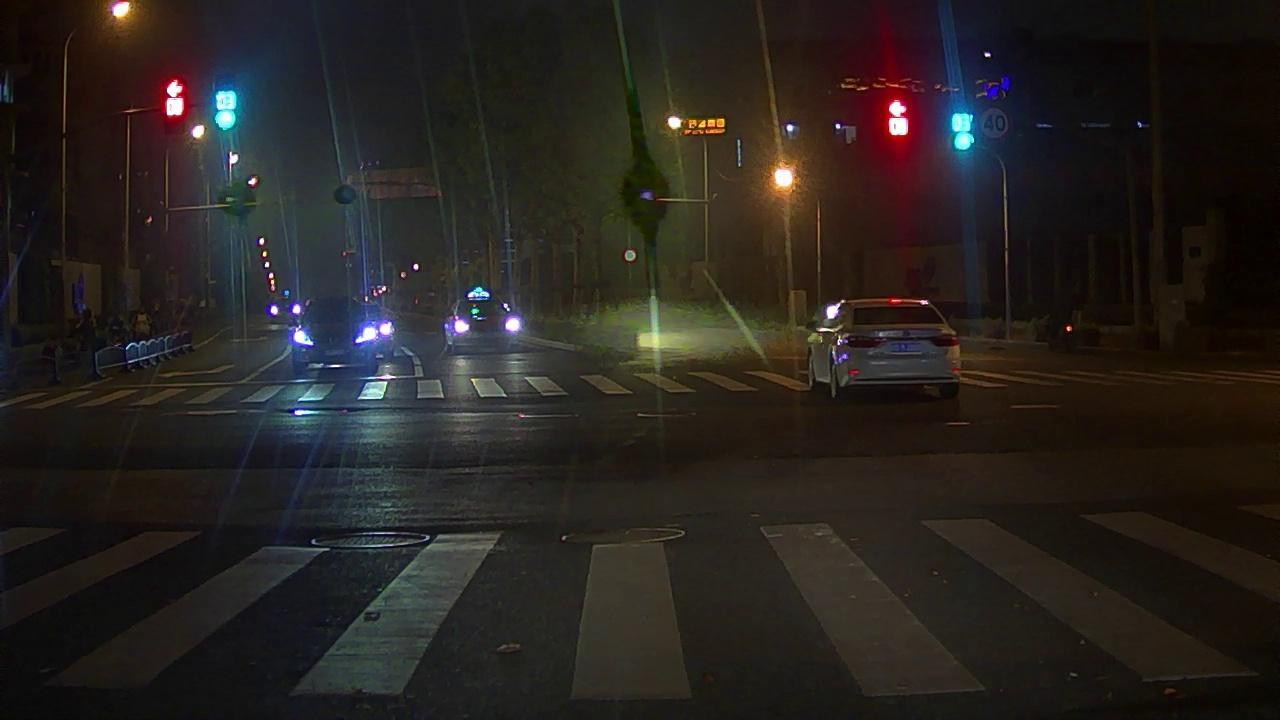traffic_light: (161, 78, 182, 131), (213, 89, 238, 129), (884, 102, 910, 137), (953, 110, 972, 150)
